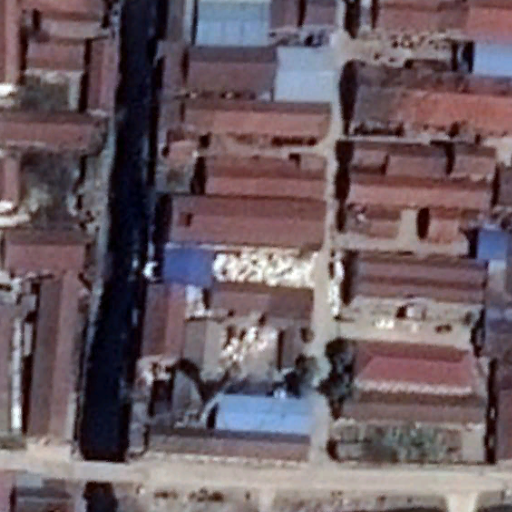msw: (216, 251, 318, 288)
